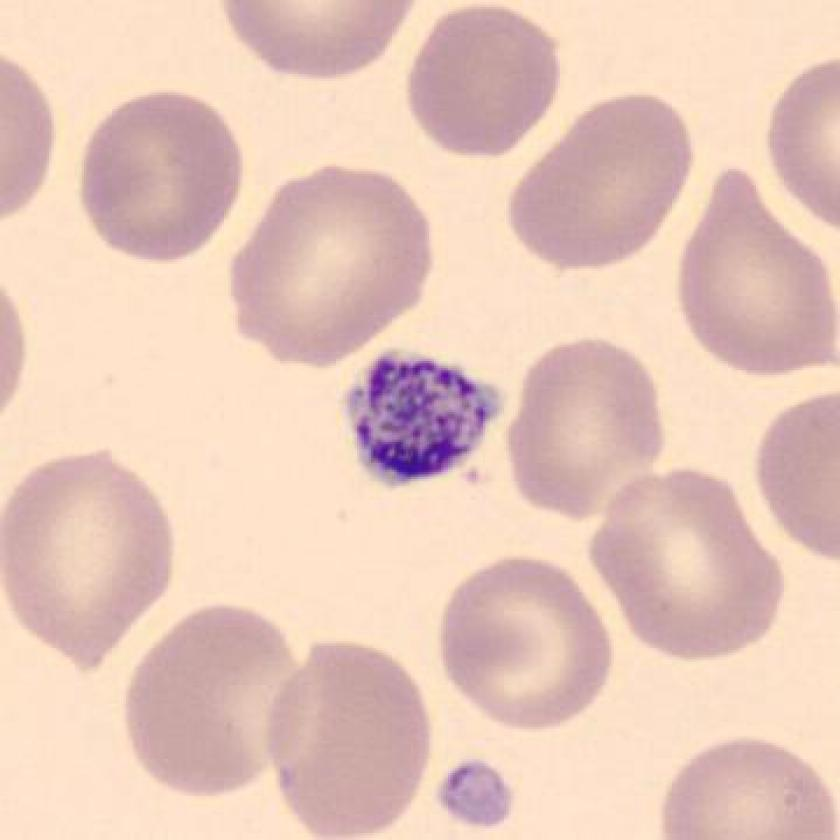platelets: (335, 337, 519, 506)
